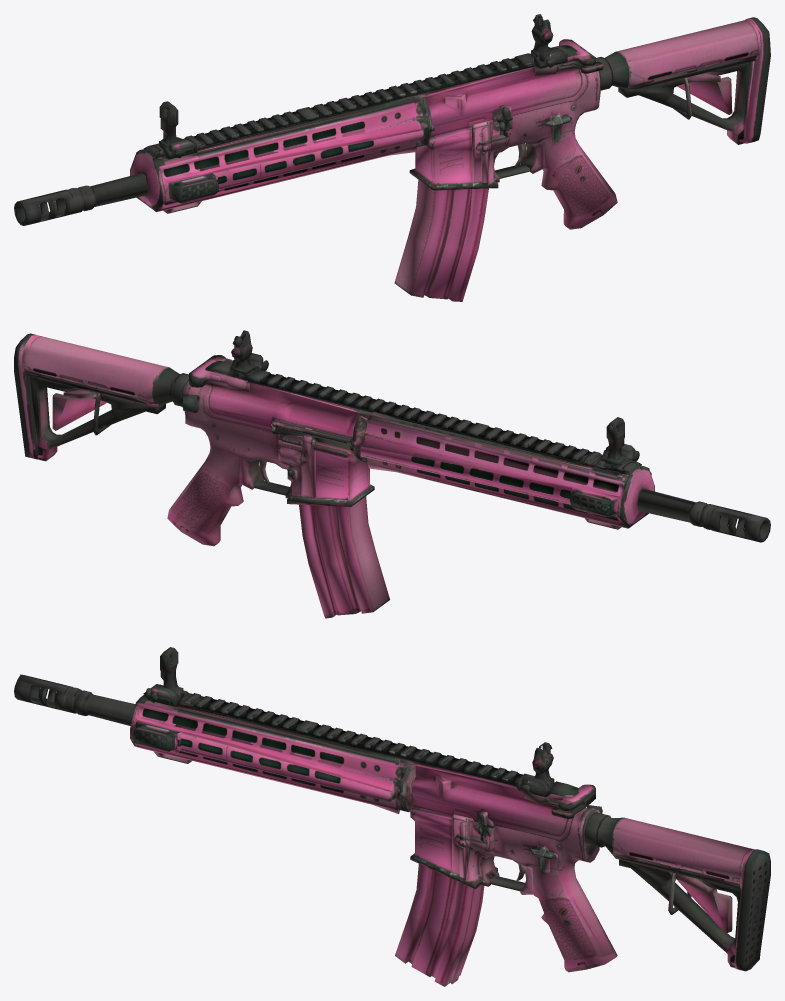
3 renders of one model, top to bottom at view 1: azimuth 30°, elevation 25°; view 2: azimuth 150°, elevation 25°; view 3: azimuth 330°, elevation 25°, orthographic.
Parts seen in each view (by area): view 1: tripo_node_cafa1e8c-428a-4855-bb10-2cd56176bd3f; view 2: tripo_node_cafa1e8c-428a-4855-bb10-2cd56176bd3f; view 3: tripo_node_cafa1e8c-428a-4855-bb10-2cd56176bd3f.
Part boxes in pixels (left/top/right/bottom): tripo_node_cafa1e8c-428a-4855-bb10-2cd56176bd3f: left=14, top=14, right=770, bottom=301; tripo_node_cafa1e8c-428a-4855-bb10-2cd56176bd3f: left=14, top=330, right=770, bottom=618; tripo_node_cafa1e8c-428a-4855-bb10-2cd56176bd3f: left=14, top=647, right=770, bottom=986.
Size of the model in its own units: 0.998 by 0.3379 by 0.0996.
1 material, 1 textured.
